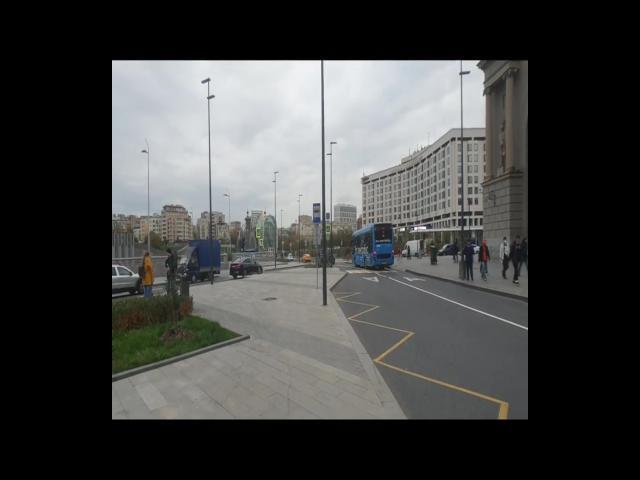bus: (350, 222, 395, 268)
